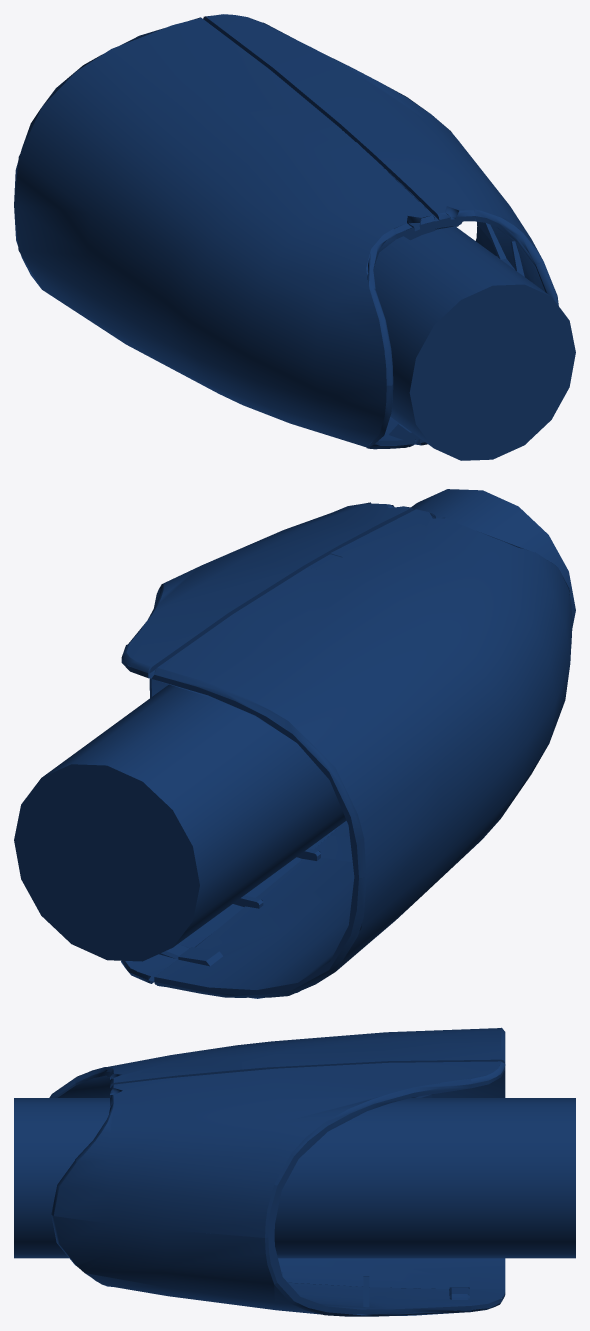
File: icub_l_forearm.dae
The picture shows the model from 3 angles, top to bottom: view 1: azimuth 30°, elevation 25°; view 2: azimuth 150°, elevation 25°; view 3: azimuth 270°, elevation 25°; orthographic projection. The views are drawn at different scales.
Visible parts, largest first — view 1: l_forearm_mesh, l_forearm_cyl_mesh; view 2: l_forearm_mesh, l_forearm_cyl_mesh; view 3: l_forearm_mesh, l_forearm_cyl_mesh.
Part boxes in pixels (box(x1,y1,x2,y2)): l_forearm_mesh: box(14, 14, 558, 449); l_forearm_cyl_mesh: box(373, 227, 575, 460); l_forearm_mesh: box(121, 502, 572, 998); l_forearm_cyl_mesh: box(14, 489, 575, 961); l_forearm_mesh: box(49, 1027, 505, 1316); l_forearm_cyl_mesh: box(14, 1098, 575, 1258).
Bounding box in the file's own units: 0.0804 × 0.0654 × 0.14.
